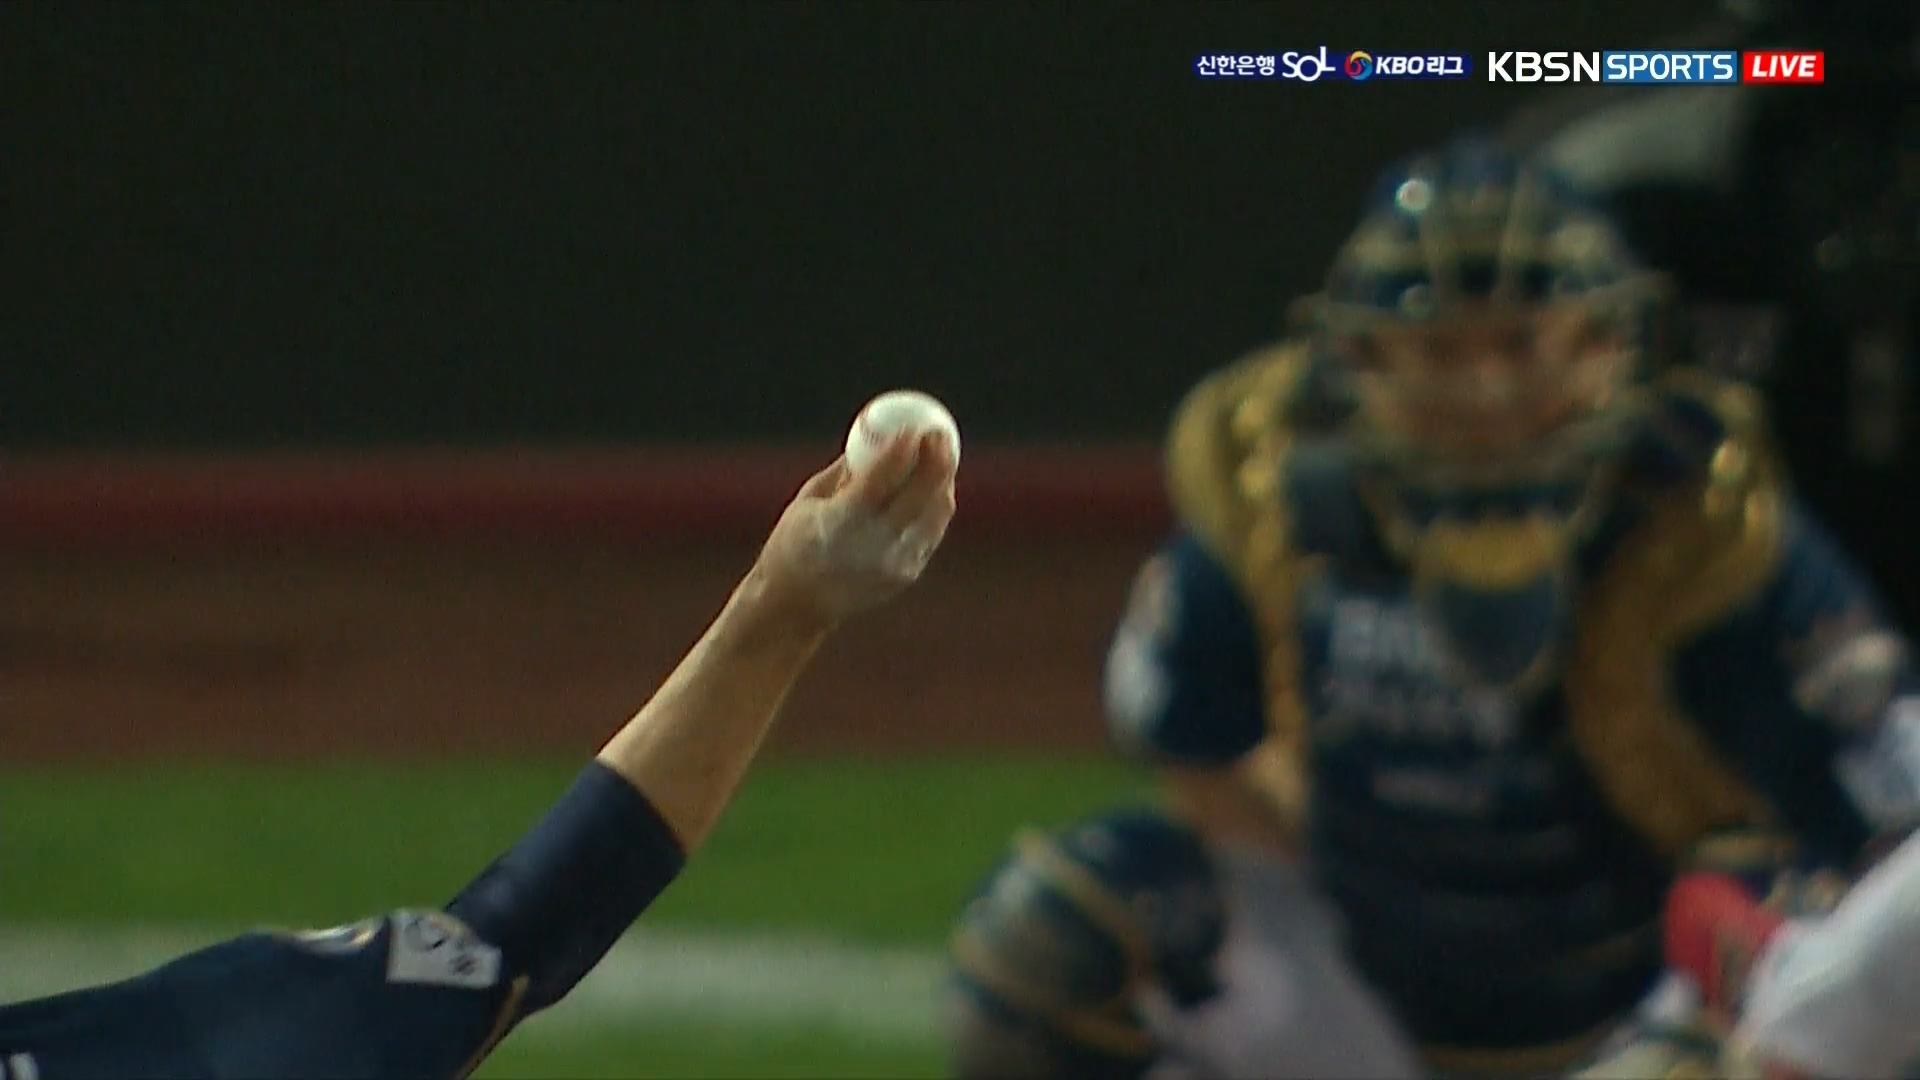zoomin_hand: (512, 382, 972, 1033)
